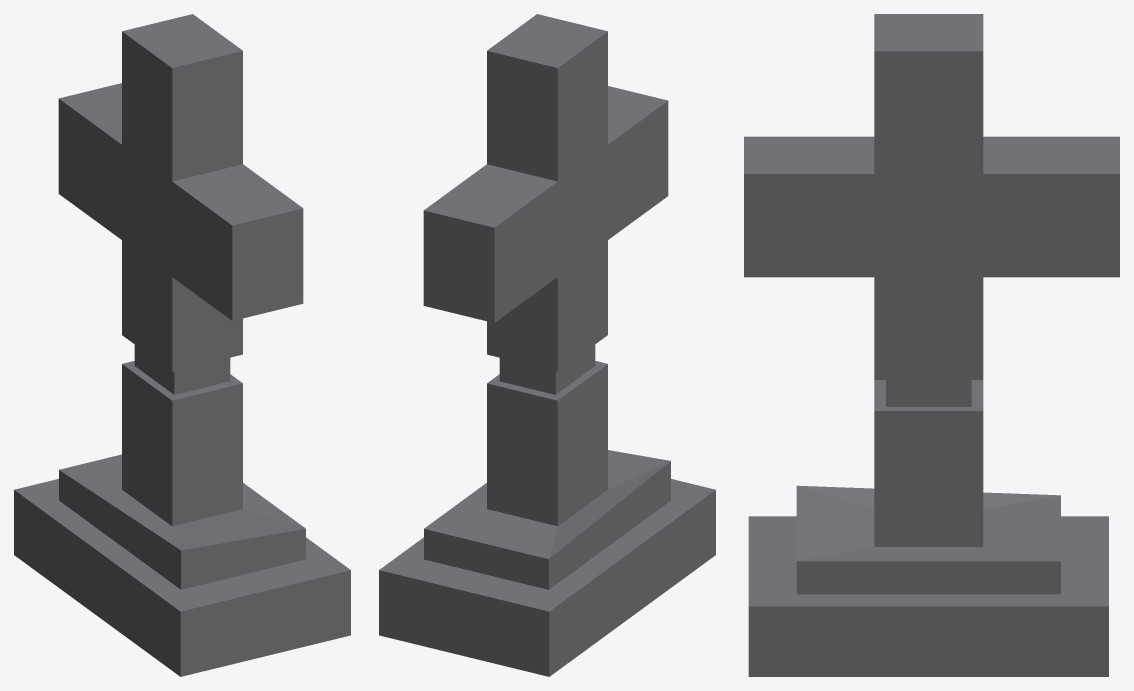
The model's file is Grave1.fbx.
The picture shows the model from 3 angles, left to right: view 1: azimuth 30°, elevation 25°; view 2: azimuth 150°, elevation 25°; view 3: azimuth 270°, elevation 25°; orthographic projection. The views are drawn at different scales.
Parts seen in each view (by area): view 1: pCube1; view 2: pCube1; view 3: pCube1.
Boxes of the visible parts, box(x1,y1,x2,y2) form: pCube1: box(14, 14, 350, 676); pCube1: box(379, 14, 715, 676); pCube1: box(744, 14, 1119, 676).
Bounding box in the file's own units: 0.7716 × 2.4 × 1.36.
